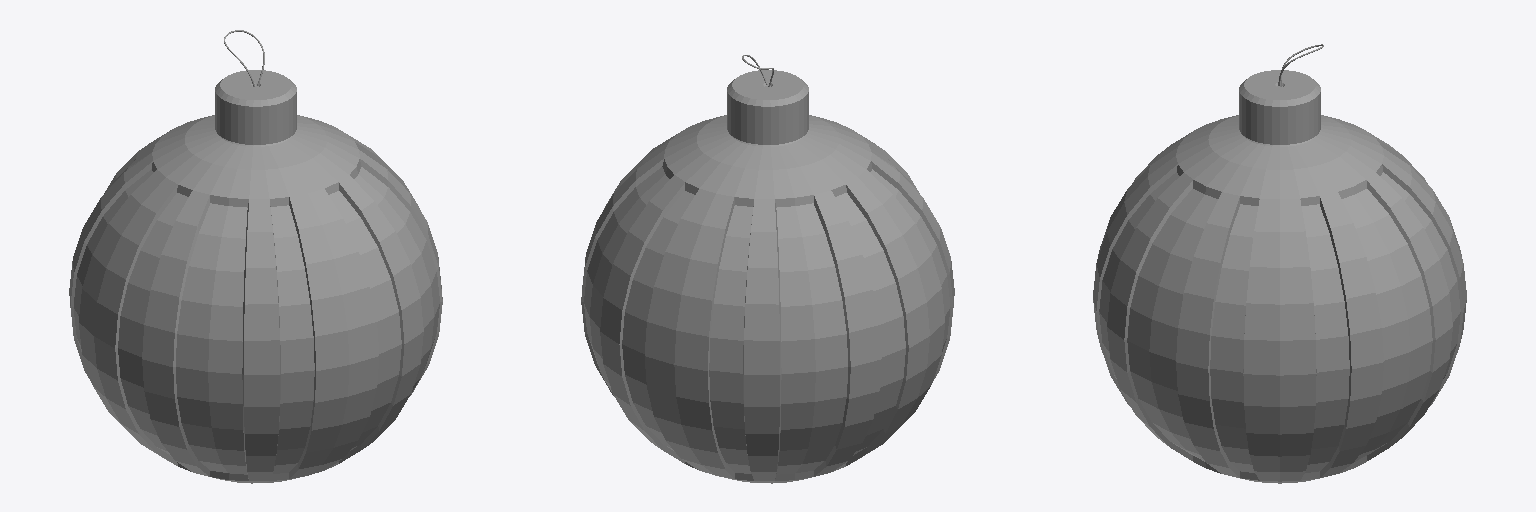
The model's file is ball5.obj.
The picture shows the model from 3 angles: view 1: azimuth 30°, elevation 25°; view 2: azimuth 150°, elevation 25°; view 3: azimuth 270°, elevation 25°; orthographic projection.
Parts seen in each view (by area): view 1: Sphere, Sphere.002; view 2: Sphere, Sphere.002; view 3: Sphere, Sphere.002.
Boxes of the visible parts, x1,y1,x2,y2 form: Sphere: [69, 115, 442, 483]; Sphere.002: [215, 70, 296, 144]; Sphere: [581, 115, 954, 483]; Sphere.002: [727, 70, 808, 144]; Sphere: [1093, 115, 1466, 483]; Sphere.002: [1239, 70, 1320, 144].
Size of the model in its own units: 0.2806 by 0.3476 by 0.2806.